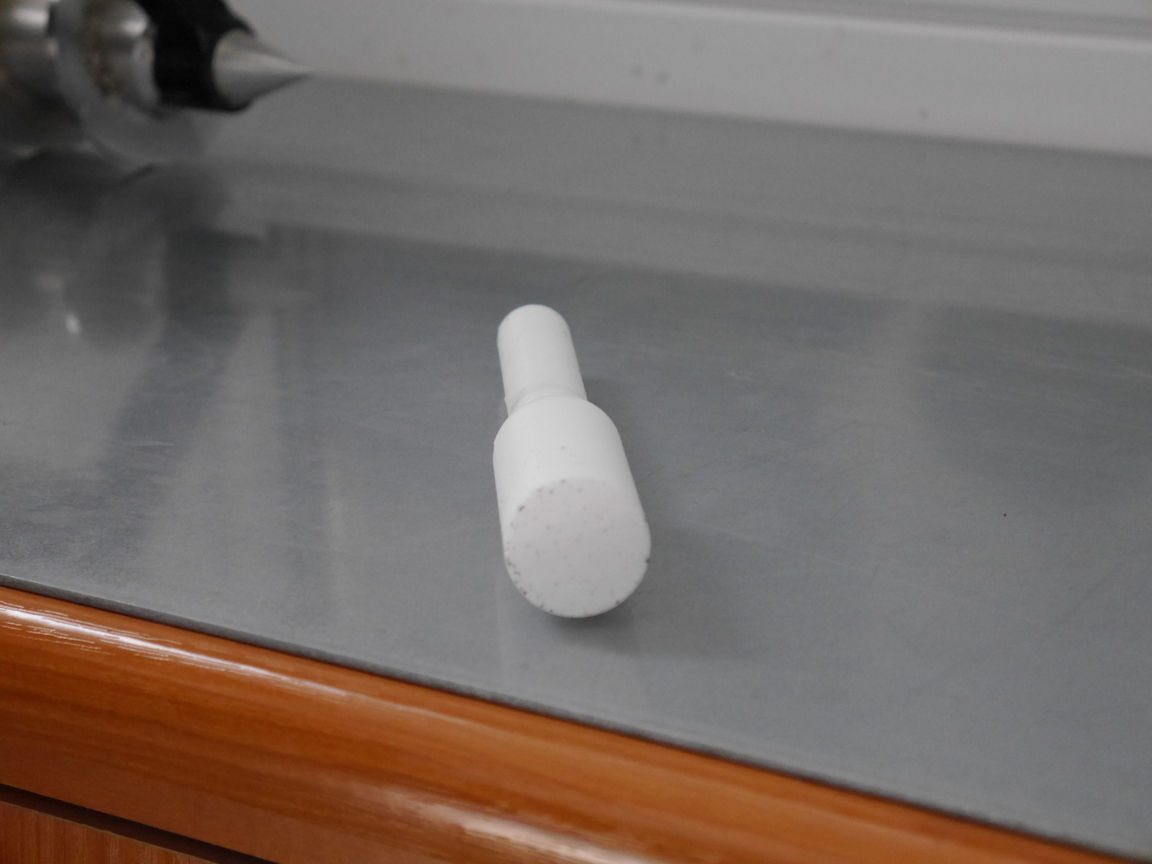cargo_g: (490, 303, 652, 627)
